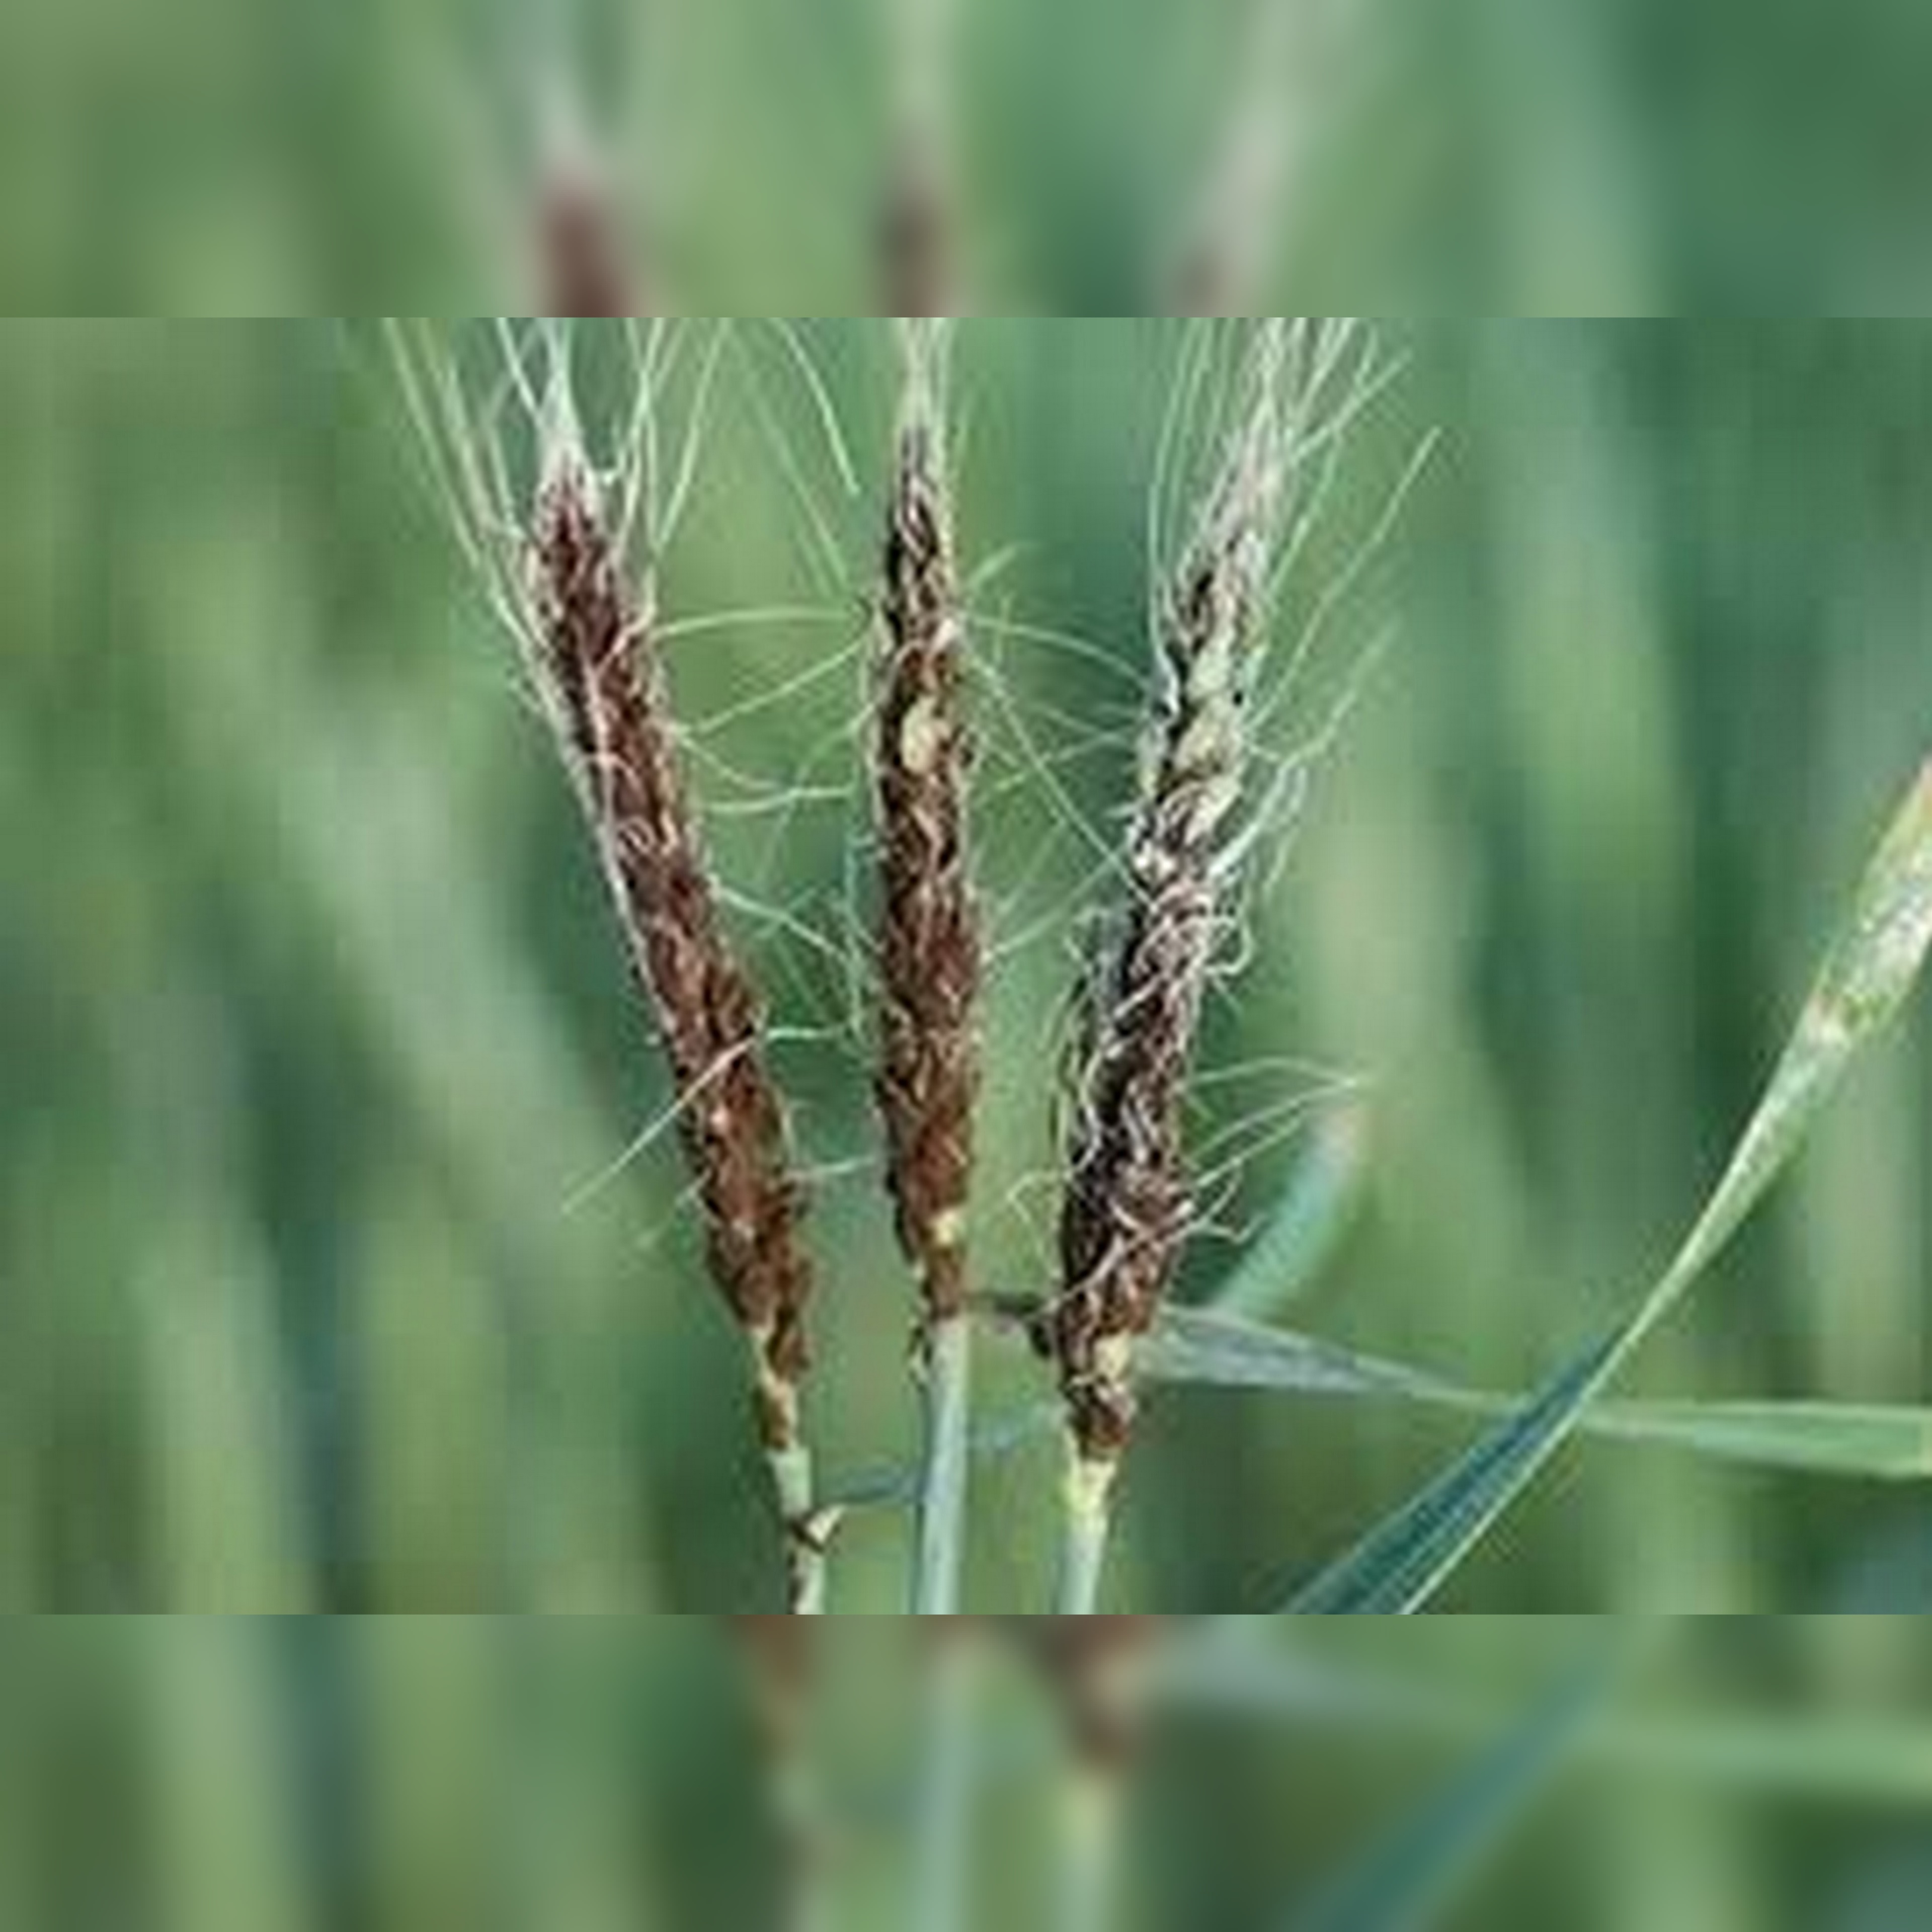Wheat Loose Smut: (481, 426, 1338, 1352)
